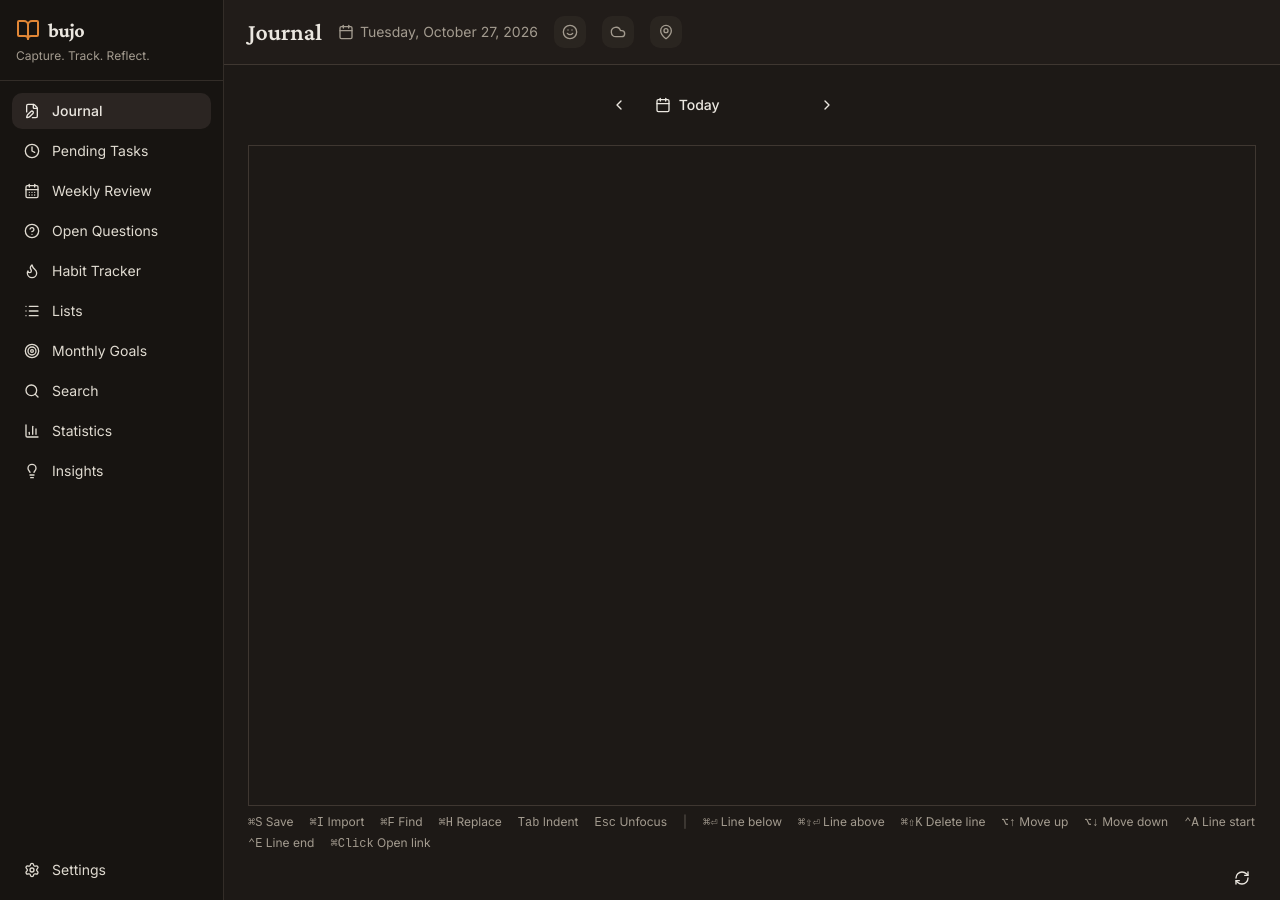
Scenario: WeekView Integration › pressing [ toggles context panel collapsed state in week view
Note: Switch to week view
Click the button "Weekly Review" at (112, 191), box x1=12 y1=173 x2=211 y2=209
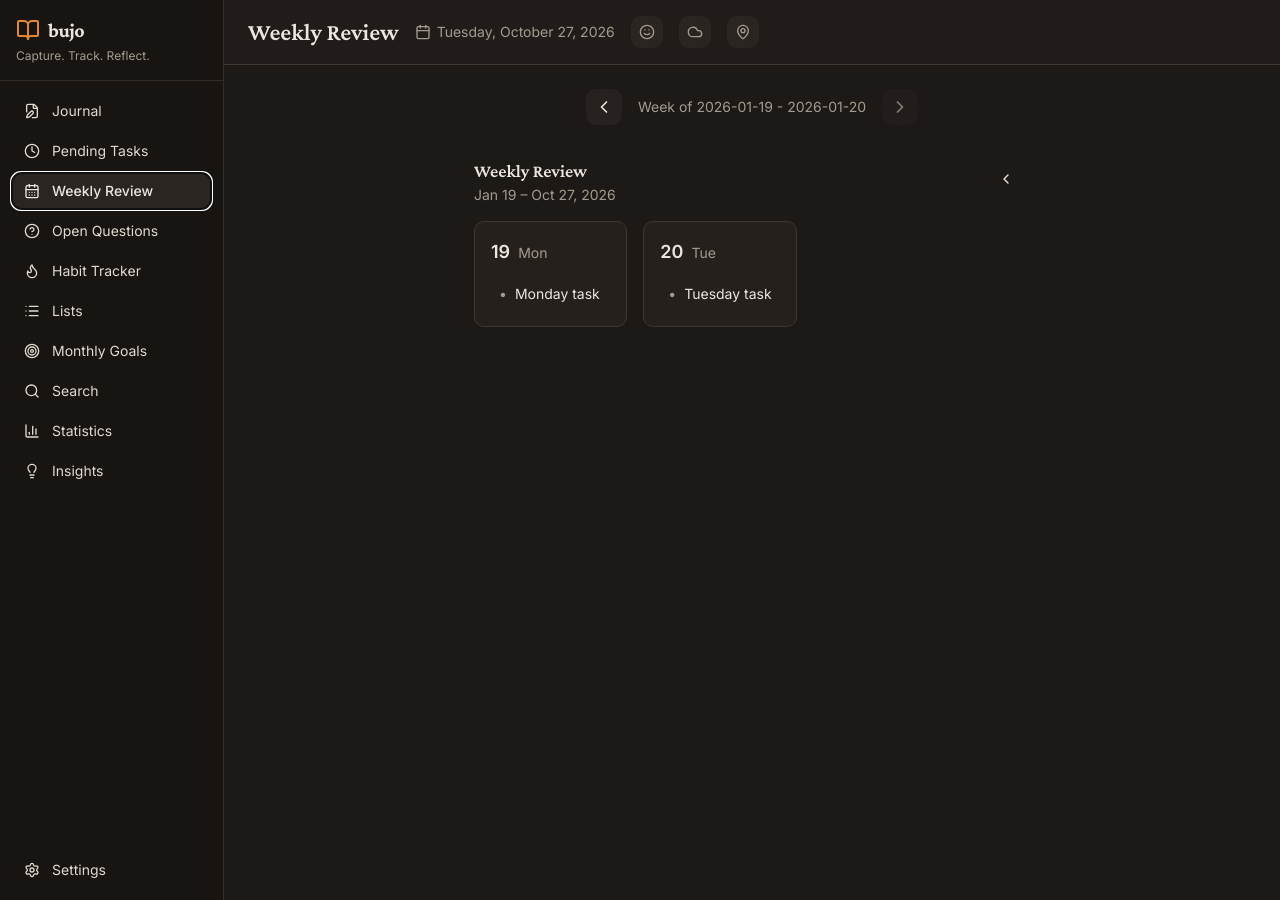
Expected: the text "Context" is not shown
Now the button named "Toggle context panel" is shown, box x1=992 y1=165 x2=1020 y2=193
Note: Press [ to expand
Type keys "{[}"
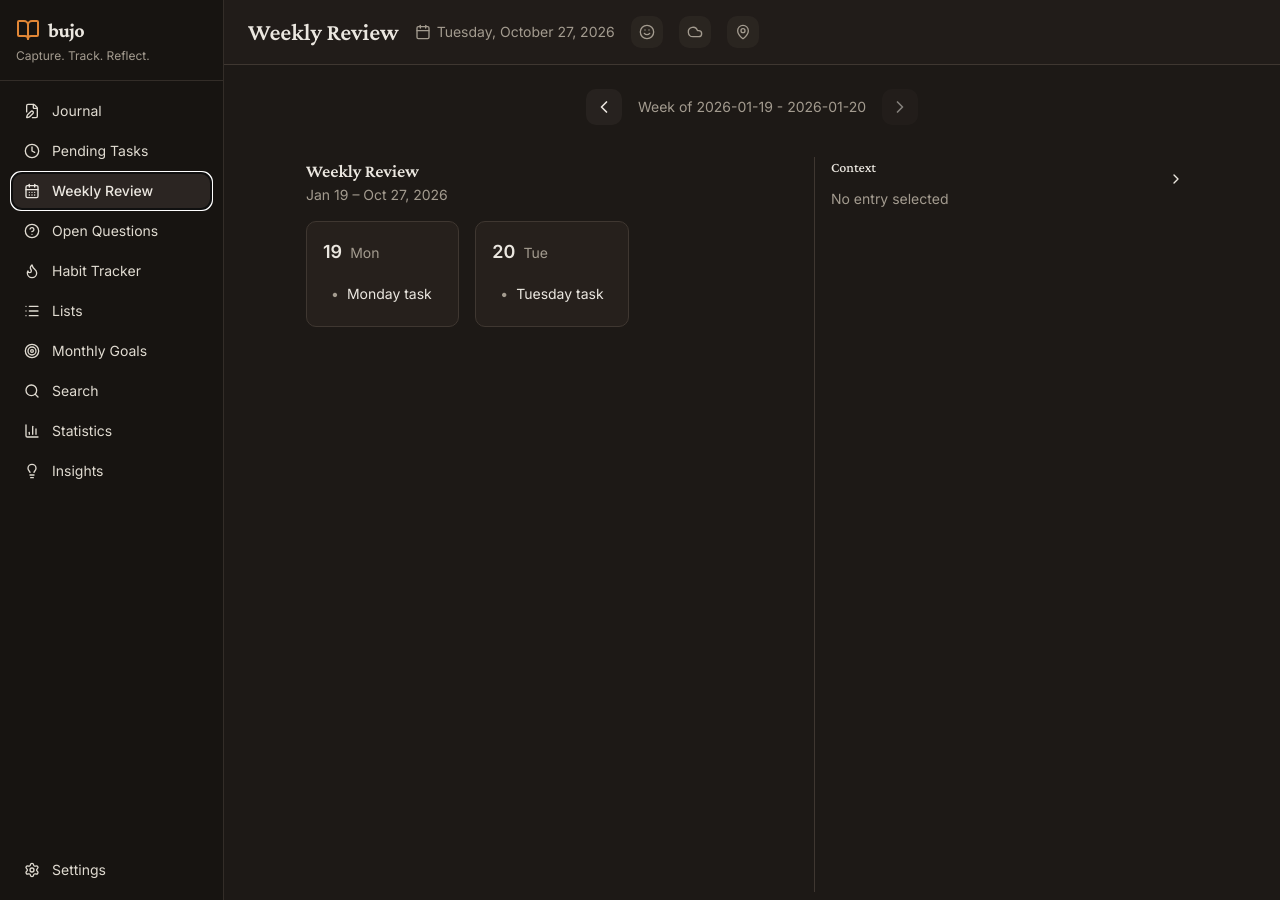
Now the heading "Context" is shown, box x1=831 y1=159 x2=876 y2=175
Note: Press [ again to collapse
Type keys "{[}"
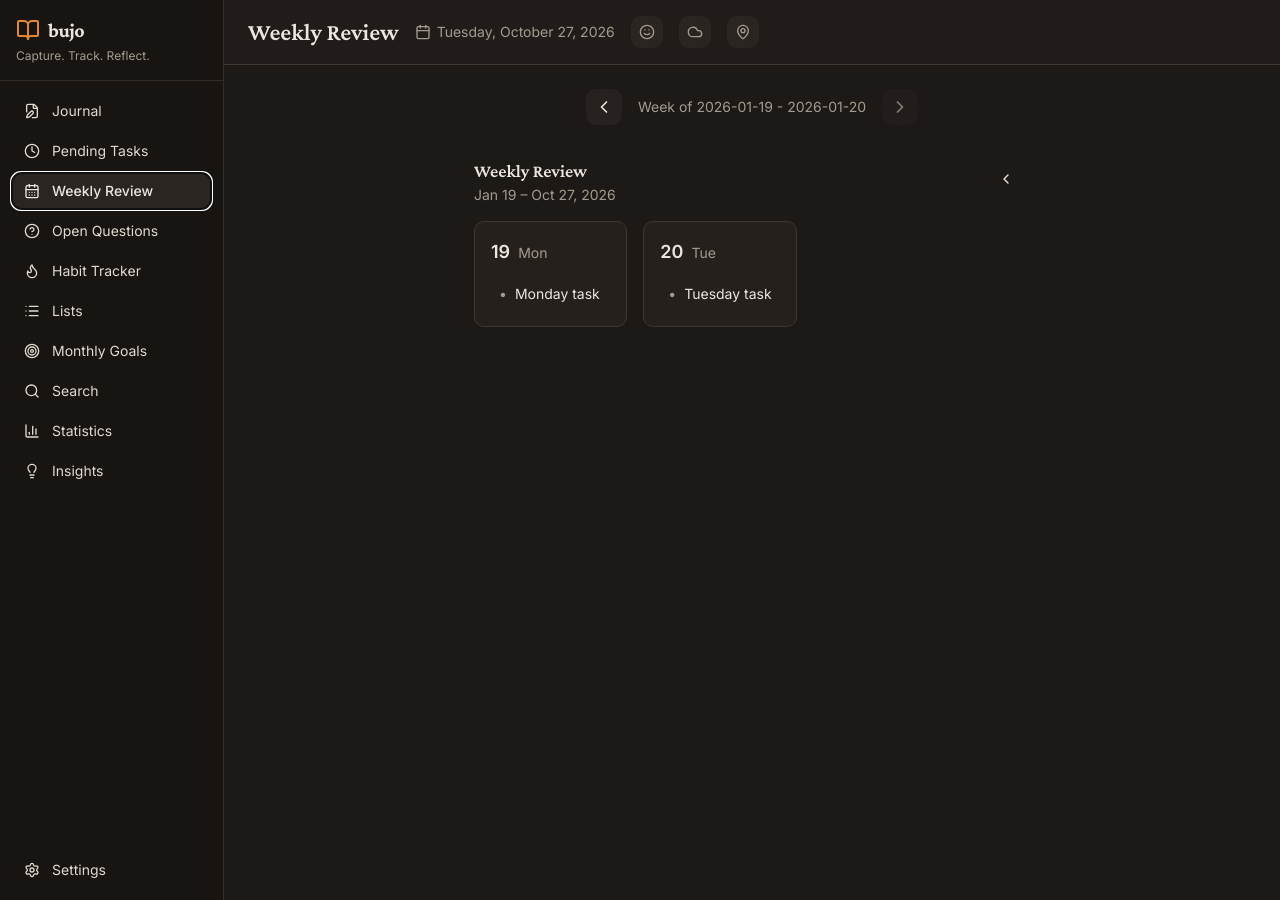
Now the heading "Context" is gone
